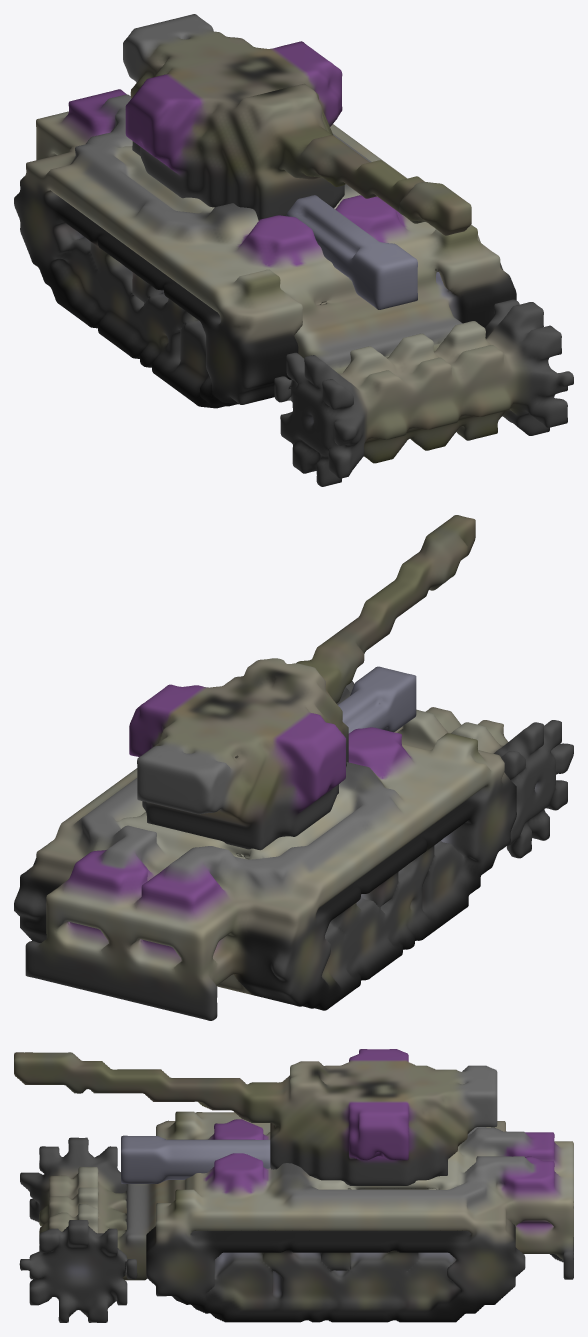
The model's file is lasher_tank.glb.
3 renders of one model, top to bottom at view 1: azimuth 30°, elevation 25°; view 2: azimuth 150°, elevation 25°; view 3: azimuth 270°, elevation 25°, orthographic. The views are drawn at different scales.
Parts seen in each view (by area): view 1: lasher_tank; view 2: lasher_tank; view 3: lasher_tank.
Part boxes in pixels (x1,y1,x2,y2): lasher_tank: (14, 14, 573, 486); lasher_tank: (14, 515, 573, 1020); lasher_tank: (14, 1049, 573, 1322).
Bounding box in the file's own units: 2.14 × 2.07 × 4.73.
